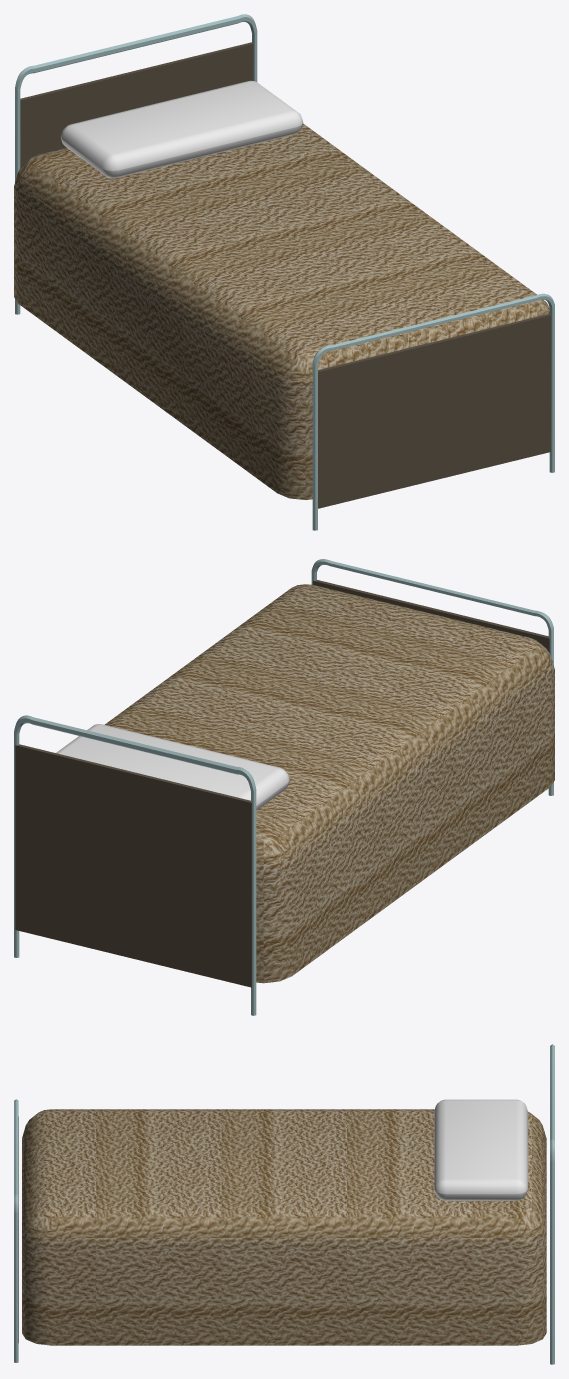
The model's file is Bed.FBX.
3 views of the same model, one above another, from view 1: azimuth 30°, elevation 25°; view 2: azimuth 150°, elevation 25°; view 3: azimuth 270°, elevation 25° (orthographic). The views are drawn at different scales.
Parts seen in each view (by area): view 1: Bed; view 2: Bed; view 3: Bed.
Boxes of the visible parts, x1,y1,x2,y2 form: Bed: (14,14,554,530); Bed: (14,559,554,1015); Bed: (14,1044,554,1364).
Bounding box in the file's own units: 89.08 × 76.11 × 170.
4 materials, 1 textured.
